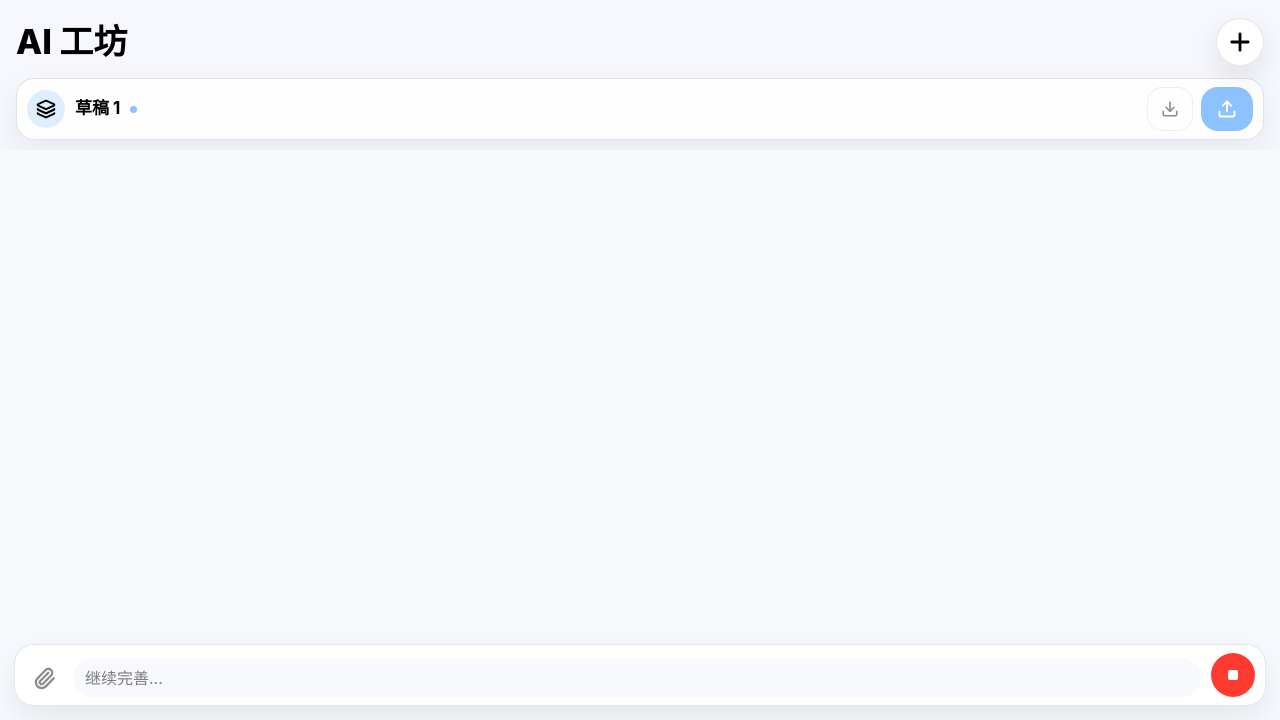
Scenario: AIAppBuilderApp › clears a stale generating state after a refresh when no controller exists
Click the button named "停止生成": (1233, 675) [1211,653,1255,697]
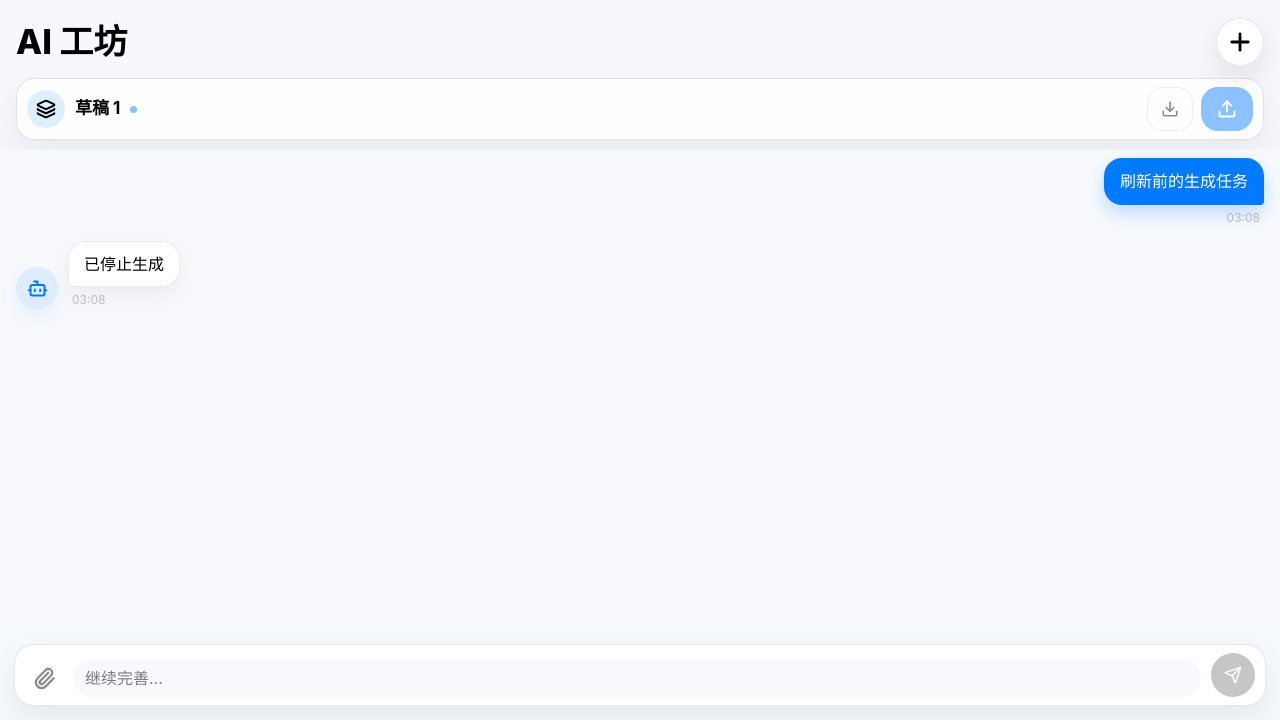
Check: the text "已停止生成" is shown, box [68,241,180,287]
